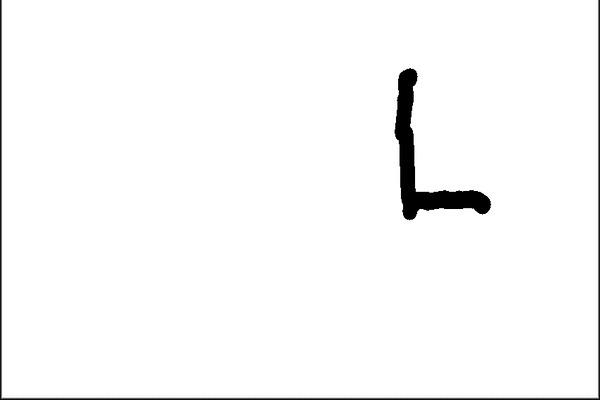L: (384, 61, 496, 222)
